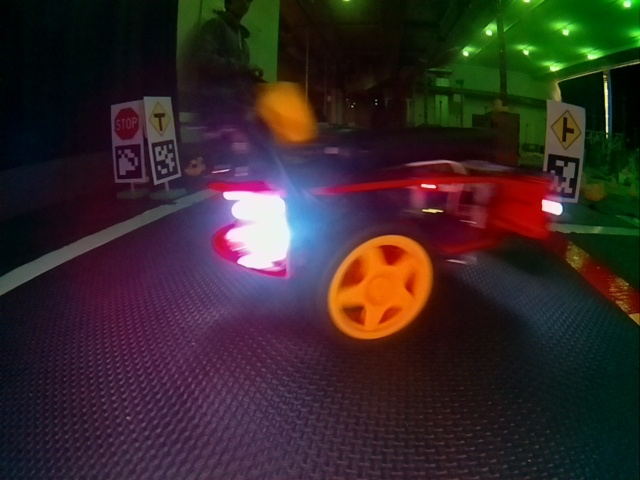Duckie: (186, 160, 201, 176), (587, 186, 603, 200), (492, 99, 507, 110)
Duckiebot: (207, 125, 555, 305)
Intersection sign: (550, 105, 582, 151), (148, 102, 173, 137)
QR code: (545, 154, 579, 199), (150, 139, 179, 180), (114, 143, 143, 180)
Stop sign: (112, 105, 141, 141)
